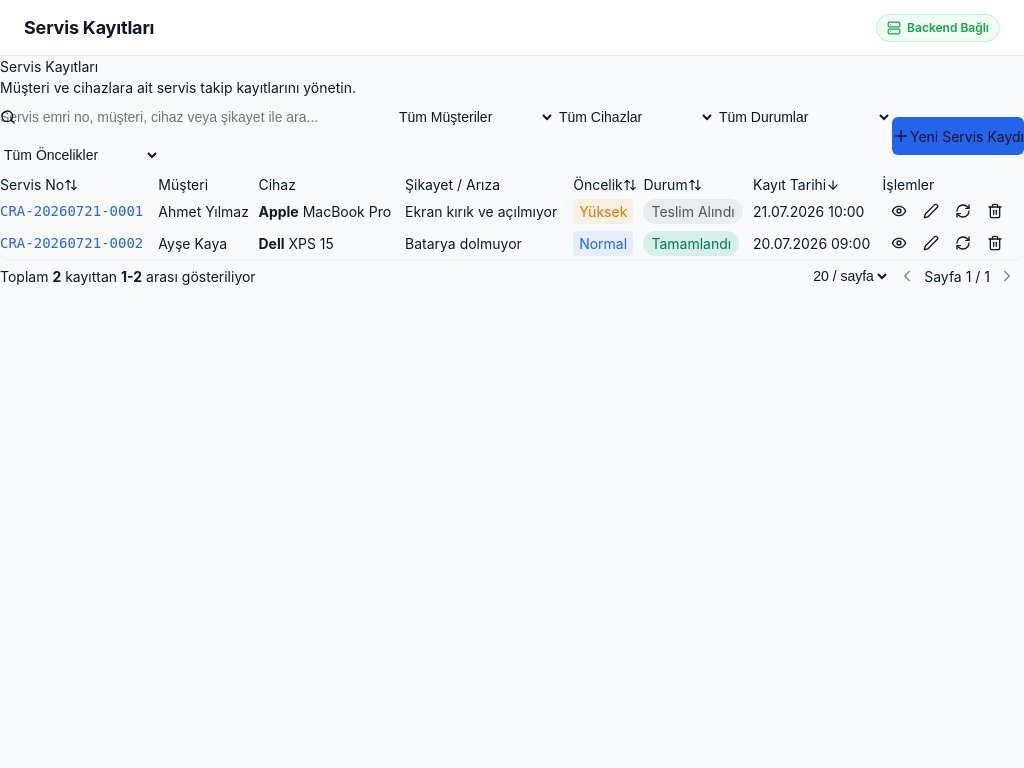
Test: RepairOrdersPage Integration › opens status change dialog and submits status update
Expected: the text "CRA-20260721-0001" is shown, x1=0 y1=203 x2=143 y2=219
Click the button named "durumunu değiştir" at {"x": 962, "y": 211}, box x1=946 y1=195 x2=978 y2=227
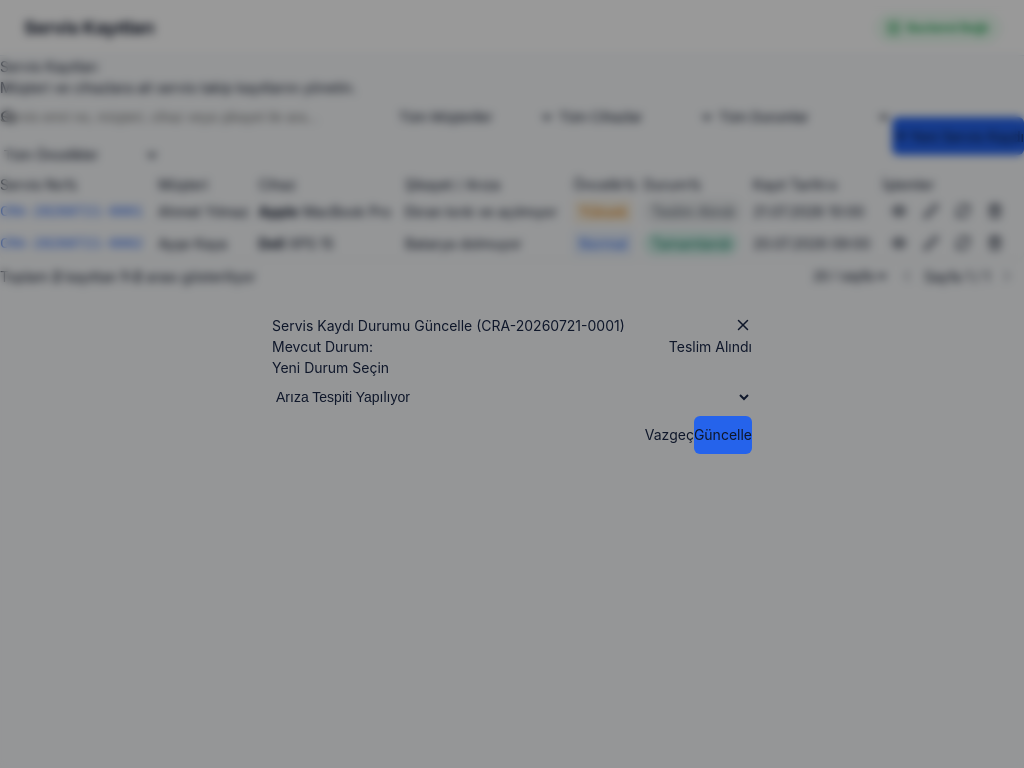
Now the dialog "Servis Kaydı Durumu Güncelle" is shown, box x1=272 y1=314 x2=752 y2=454
Select "Arıza Tespiti Yapılıyor" in the dropdown labelled "Yeni Durum Seçin" at {"x": 512, "y": 396}, box x1=272 y1=378 x2=752 y2=416
Click the button "Güncelle" at {"x": 723, "y": 434}, box x1=694 y1=416 x2=752 y2=454
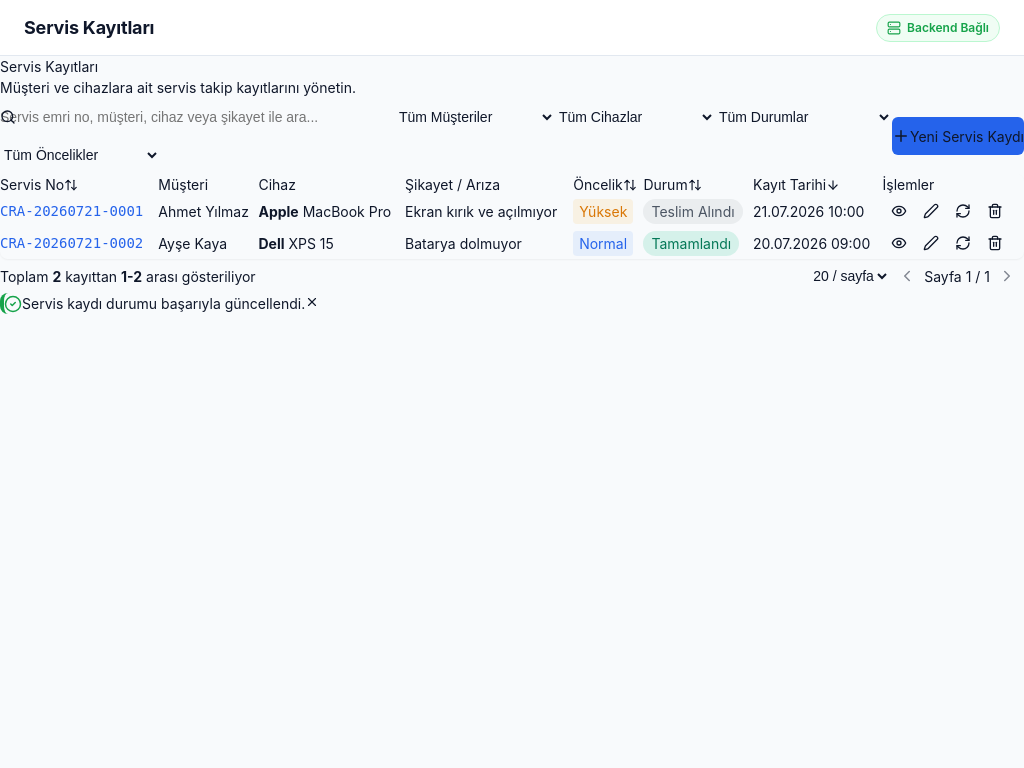
Now the text "Servis kaydı durumu başarıyla güncellendi." is shown, box x1=22 y1=293 x2=305 y2=314
